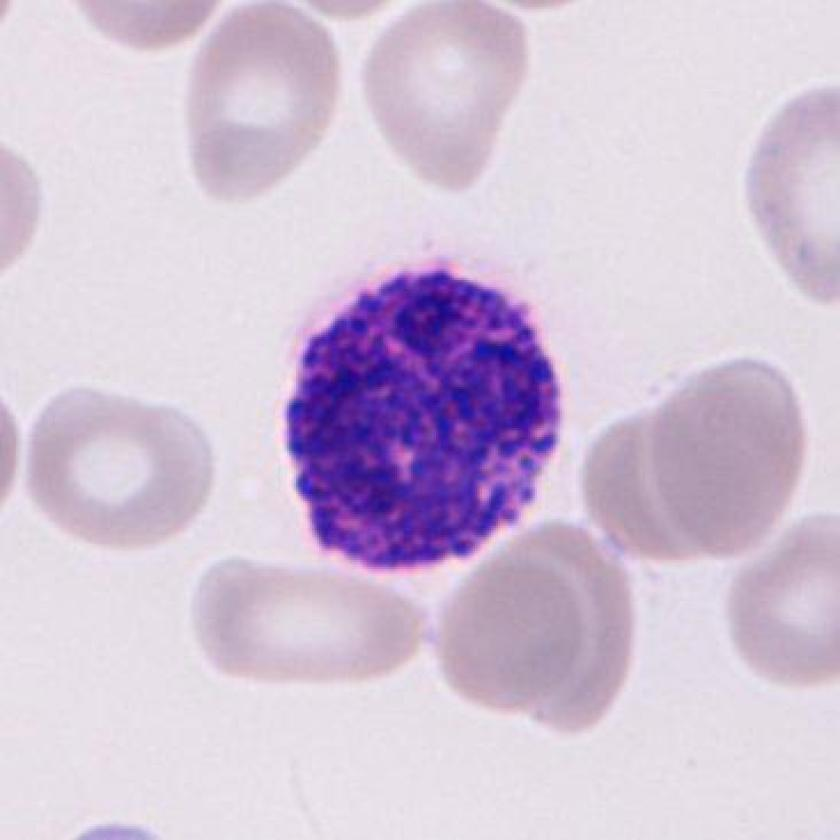basophil: (279, 258, 575, 584)
